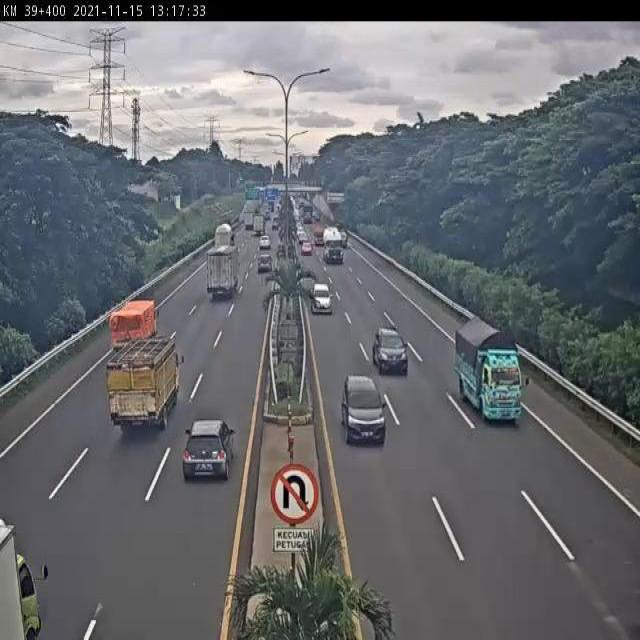car: (182, 415, 235, 484), (340, 375, 386, 445), (371, 324, 409, 373), (310, 279, 330, 308), (256, 251, 274, 277)
truck-l-: (322, 225, 343, 263)
truck-m-: (455, 317, 521, 423), (107, 341, 180, 431), (204, 248, 238, 304)
truck-s-: (108, 300, 158, 353)
